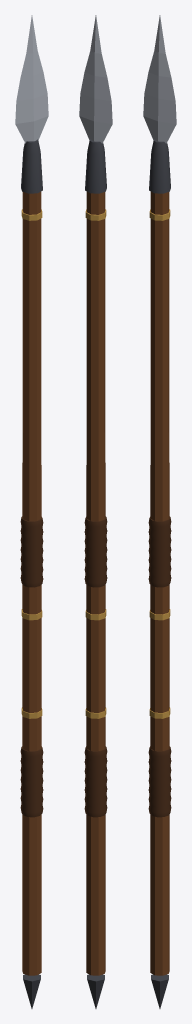
Rendered from spear.glb.
3 renders of one model, left to right at view 1: azimuth 30°, elevation 25°; view 2: azimuth 150°, elevation 25°; view 3: azimuth 330°, elevation 25°, orthographic.
Parts seen in each view (by area): view 1: Spear_Shaft, Spear_Head, Spear_Grip, Spear_OffGrip, Spear_Fittings, Spear_Bands; view 2: Spear_Shaft, Spear_Head, Spear_Grip, Spear_OffGrip, Spear_Fittings, Spear_Bands; view 3: Spear_Shaft, Spear_Head, Spear_Grip, Spear_OffGrip, Spear_Fittings, Spear_Bands.
Boxes of the visible parts, x1,y1,x2,y2 form: Spear_Shaft: [22, 191, 41, 975]; Spear_Head: [15, 15, 48, 143]; Spear_Grip: [20, 746, 43, 817]; Spear_OffGrip: [20, 516, 43, 587]; Spear_Fittings: [21, 139, 42, 1008]; Spear_Bands: [21, 209, 42, 718]; Spear_Shaft: [86, 191, 105, 975]; Spear_Head: [79, 15, 112, 143]; Spear_Grip: [84, 746, 107, 817]; Spear_OffGrip: [84, 516, 107, 587]; Spear_Fittings: [85, 139, 106, 1008]; Spear_Bands: [85, 209, 106, 718]; Spear_Shaft: [150, 191, 169, 975]; Spear_Head: [143, 15, 176, 143]; Spear_Grip: [148, 746, 171, 817]; Spear_OffGrip: [148, 516, 171, 587]; Spear_Fittings: [149, 139, 170, 1008]; Spear_Bands: [149, 209, 170, 718].
Size of the model in its own units: 0.064 by 1.82 by 0.038.
